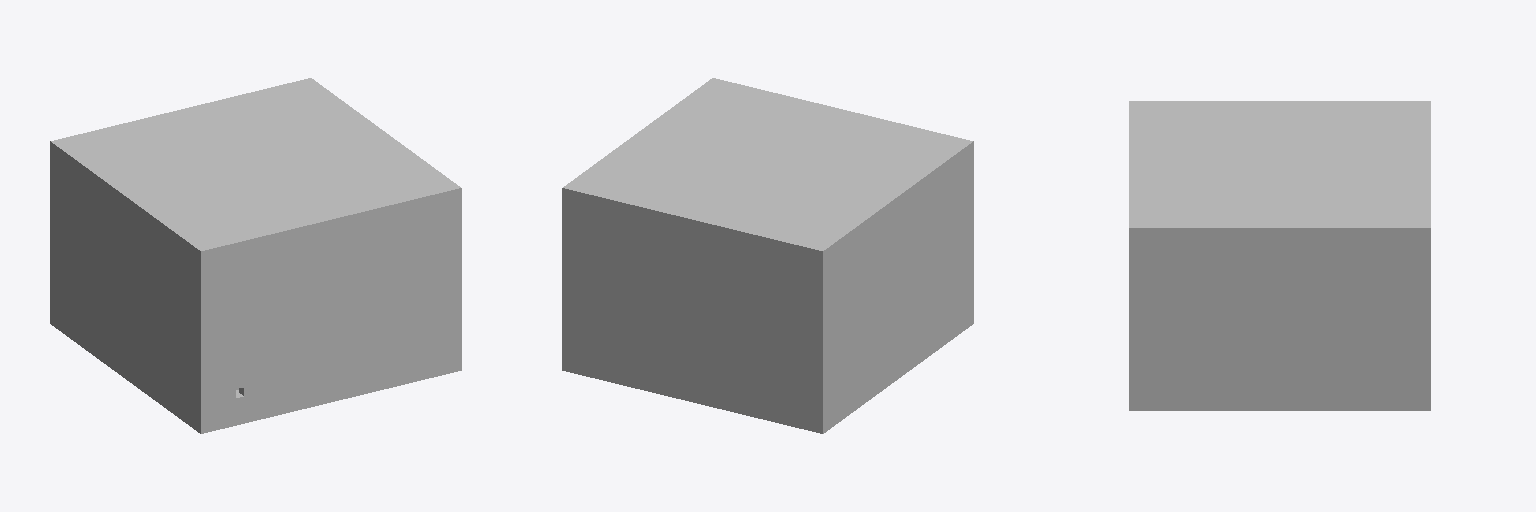
File: remotehouse.obj
3 views of the same model, side by side, from view 1: azimuth 30°, elevation 25°; view 2: azimuth 150°, elevation 25°; view 3: azimuth 270°, elevation 25° (orthographic).
Parts seen in each view (by area): view 1: remotehouse; view 2: remotehouse; view 3: remotehouse.
Part boxes in pixels (left/top/right/bottom): remotehouse: left=50, top=78, right=461, bottom=433; remotehouse: left=562, top=78, right=973, bottom=433; remotehouse: left=1129, top=101, right=1430, bottom=410.
Bounding box in the file's own units: 30 × 20.1 × 30.